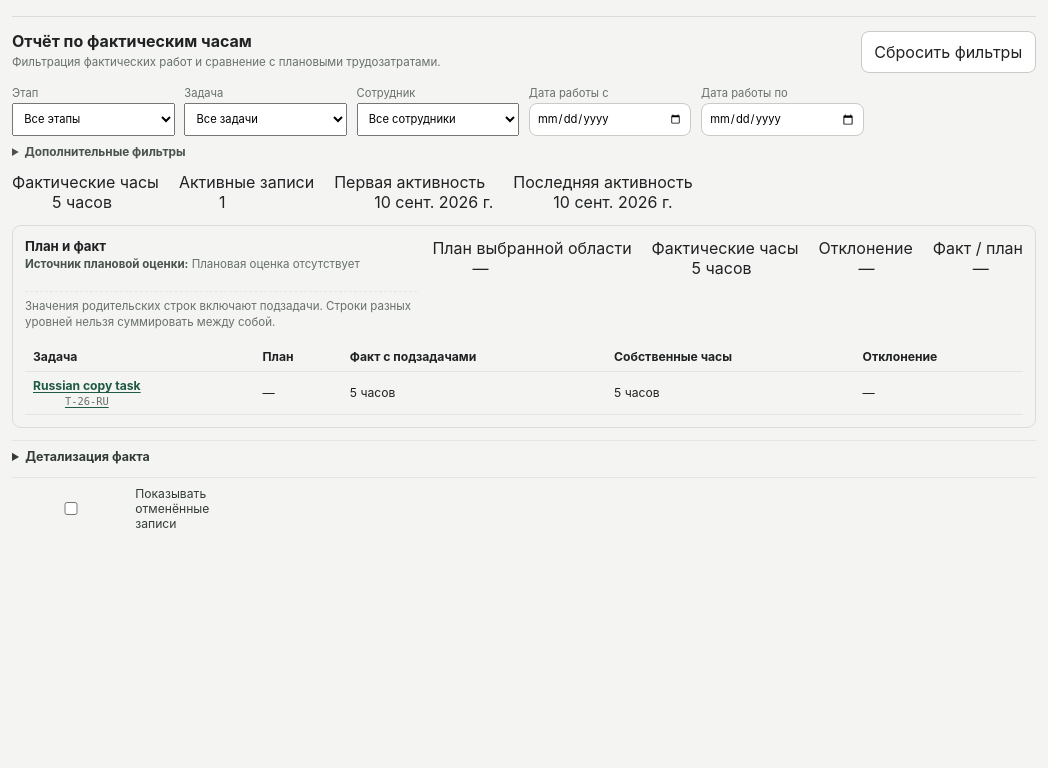
ProjectActualReport › §11.4: uses reworded 'Отменённ*' copy in Russian and never renders 'Аннулирован'
Note: Toggle so the voided record loads and the correction-history area renders.
Click the checkbox labelled "Показывать отменённые записи". click: (71, 509)
box: [16, 502, 126, 515]
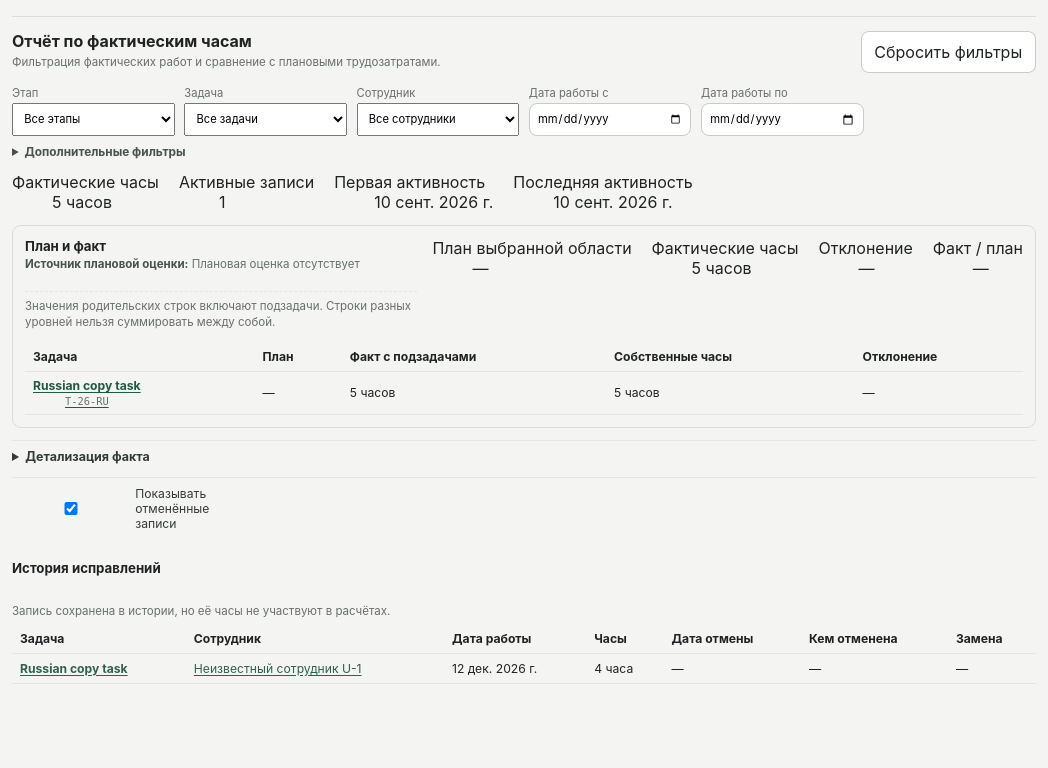
Expected: the text "отменённ" is shown, [135, 486, 209, 531]
Expected: the heading "История исправлений" is shown, [12, 560, 161, 576]
